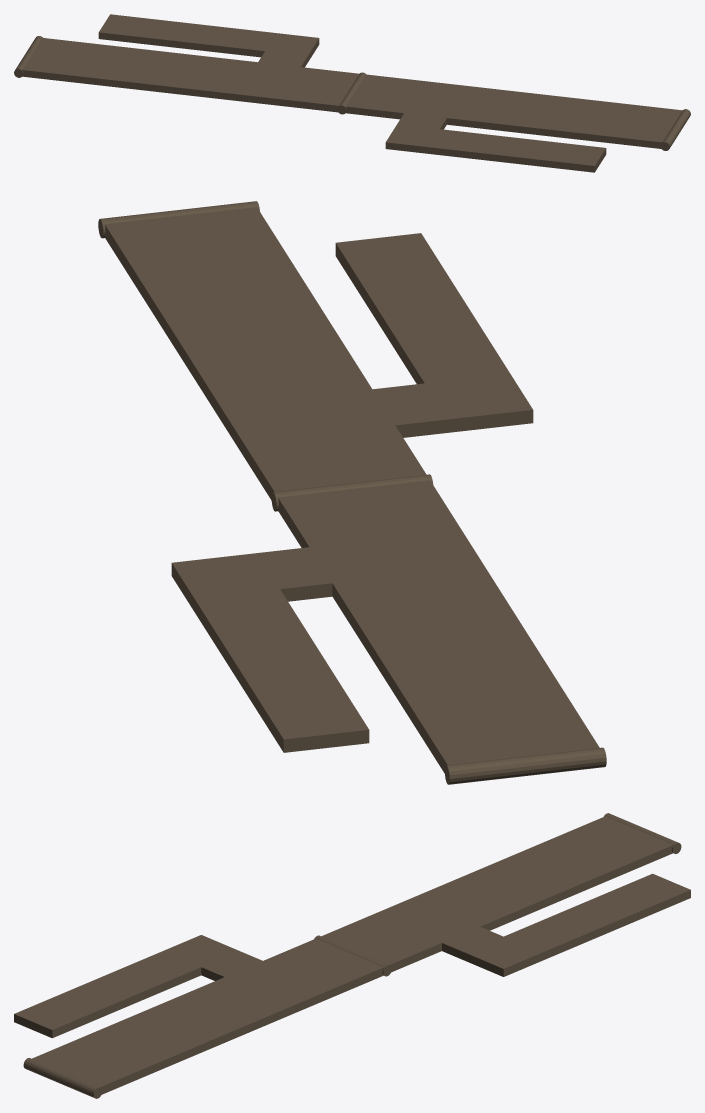
The model's file is balance3.fbx.
The picture shows the model from 3 angles, top to bottom: view 1: azimuth 30°, elevation 25°; view 2: azimuth 150°, elevation 25°; view 3: azimuth 270°, elevation 25°; orthographic projection. The views are drawn at different scales.
Parts seen in each view (by area): view 1: balance, connect2, connect3, connect1; view 2: balance, connect3, connect1, connect2; view 3: balance, connect2, connect1, connect3.
Part boxes in pixels (<box>): balance: <box>22,14,682,172</box>; connect2: <box>660,109,690,150</box>; connect3: <box>14,36,42,77</box>; connect1: <box>337,72,366,114</box>; balance: <box>105,207,599,773</box>; connect3: <box>444,747,606,784</box>; connect1: <box>271,474,433,511</box>; connect2: <box>98,201,259,238</box>; balance: <box>14,816,690,1094</box>; connect2: <box>23,1058,102,1098</box>; connect1: <box>314,935,391,976</box>; connect3: <box>603,813,681,853</box>.
Bounding box in the file's own units: 1092 × 20 × 1124.
